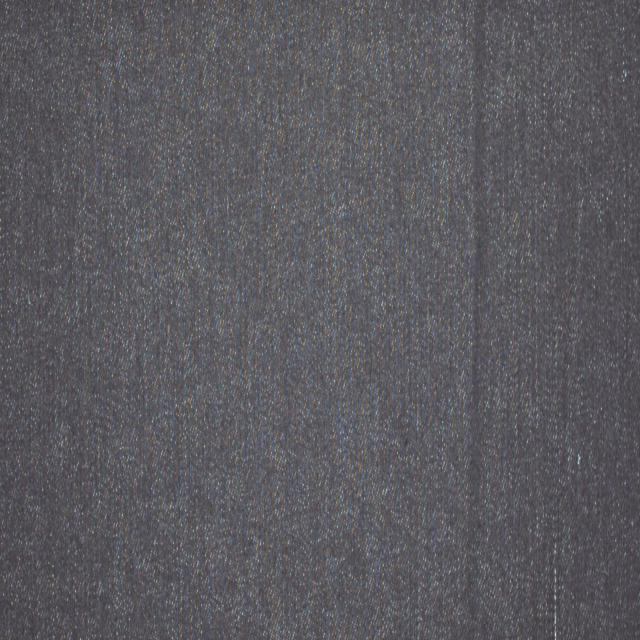Line: (467, 0, 489, 640)
